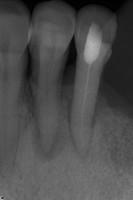Furcation Involvement: (30, 105, 66, 164)
